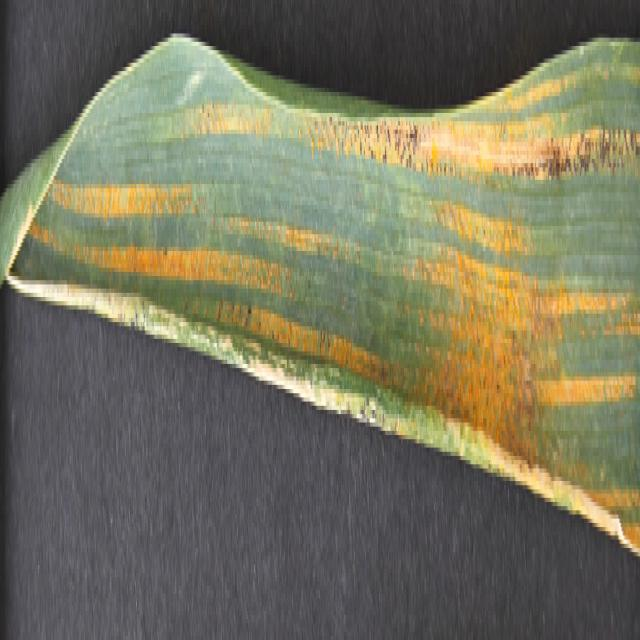leaf rust: (25, 38, 640, 556)
